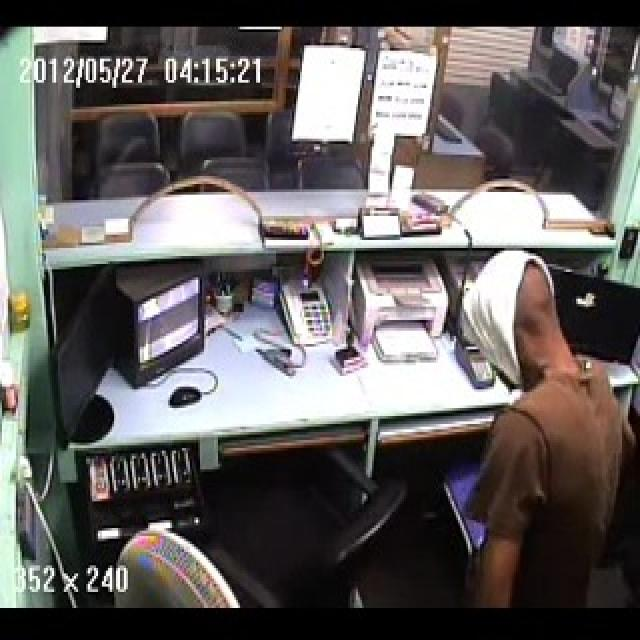thief: (447, 258, 638, 604)
